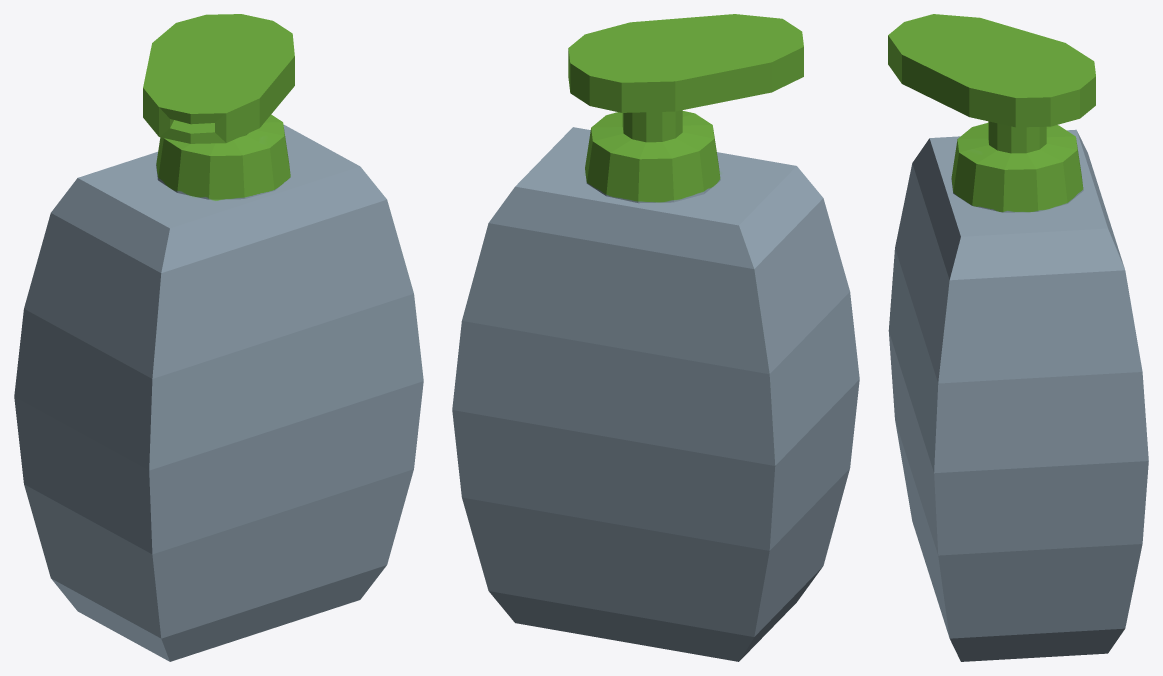
The model's file is Sapone.fbx.
The picture shows the model from 3 angles, left to right: view 1: azimuth 30°, elevation 25°; view 2: azimuth 150°, elevation 25°; view 3: azimuth 270°, elevation 25°; orthographic projection. The views are drawn at different scales.
Parts seen in each view (by area): view 1: Sapone; view 2: Sapone; view 3: Sapone.
Boxes of the visible parts, <box> form: Sapone: <box>14,14,423,661</box>; Sapone: <box>452,14,859,661</box>; Sapone: <box>888,14,1148,661</box>.
Bounding box in the file's own units: 9.91 × 16.27 × 7.06.
